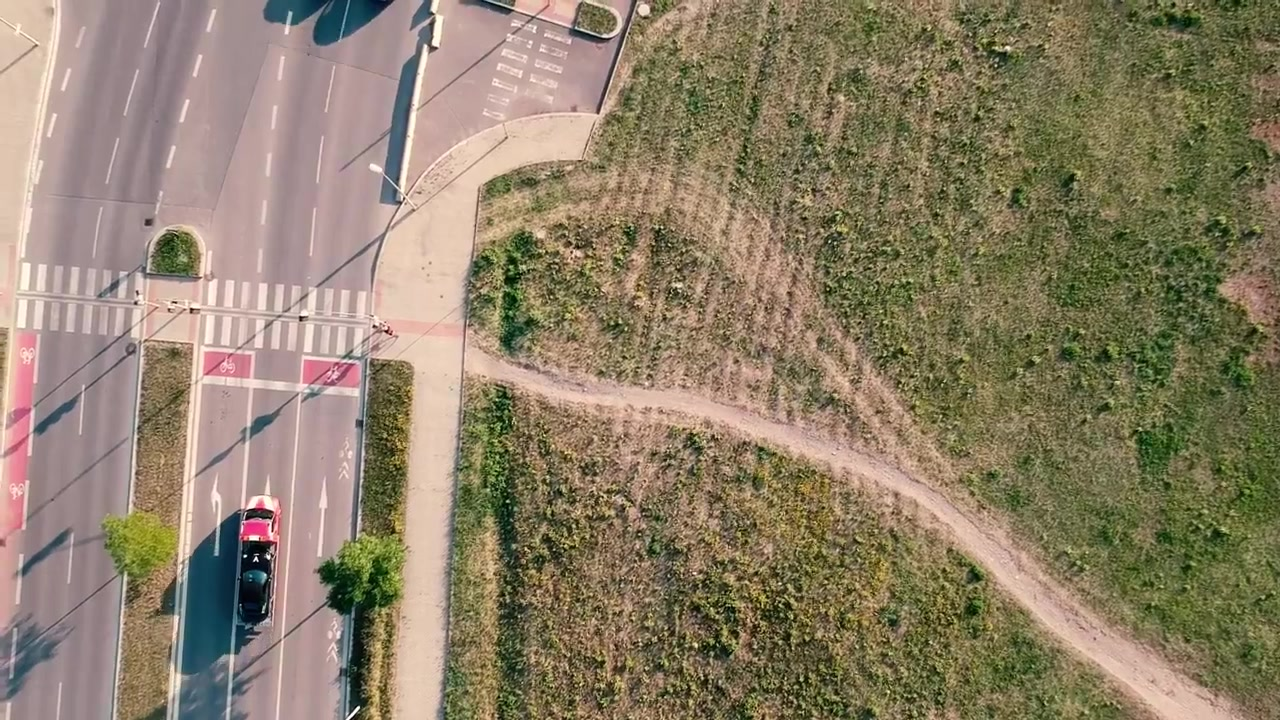car: (232, 493, 284, 633)
